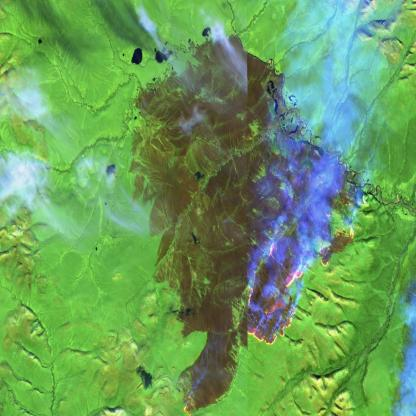fire: (247, 166, 373, 362)
